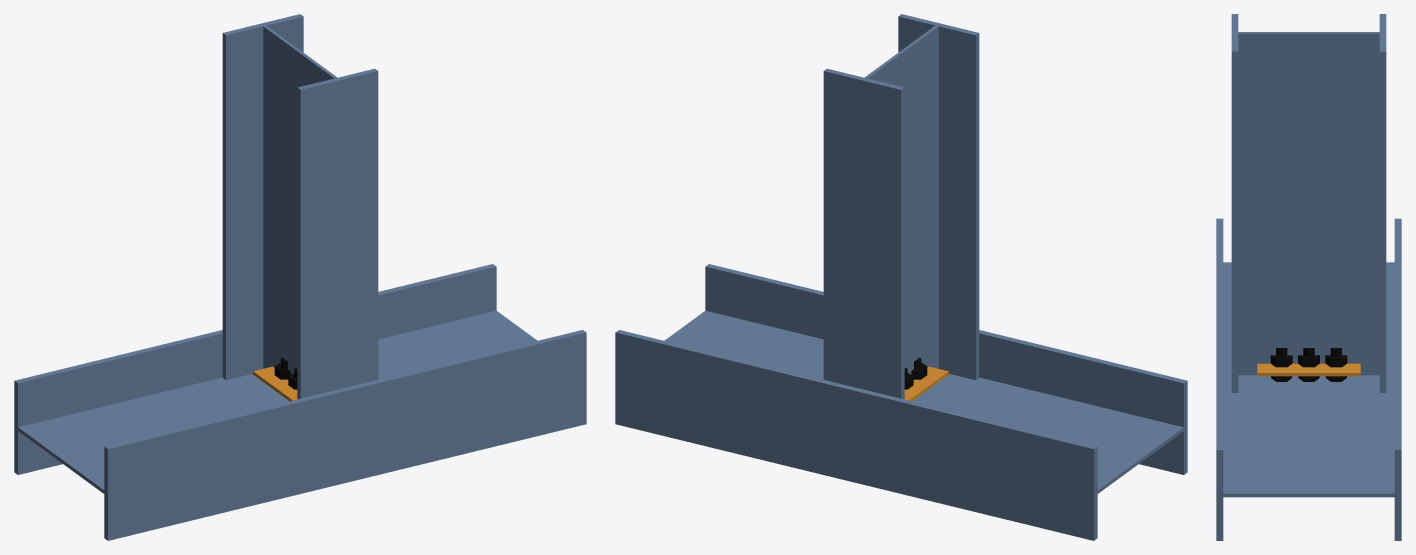
Rendered from detail_B7_beam_to_beam_connection.obj.
3 renders of one model, left to right at view 1: azimuth 30°, elevation 25°; view 2: azimuth 150°, elevation 25°; view 3: azimuth 270°, elevation 25°, orthographic.
Parts seen in each view (by area): view 1: B7_primary_beam_top_flange, B7_secondary_beam_top_flange, B7_primary_beam_bottom_flange, B7_primary_beam_web, B7_secondary_beam_bottom_flange, B7_secondary_beam_web, B7_PL6_fin_plate_80x170; view 2: B7_primary_beam_bottom_flange, B7_secondary_beam_bottom_flange, B7_primary_beam_top_flange, B7_primary_beam_web, B7_secondary_beam_top_flange, B7_secondary_beam_web, B7_PL6_fin_plate_80x170; view 3: B7_secondary_beam_web, B7_primary_beam_web, B7_secondary_beam_top_flange, B7_secondary_beam_bottom_flange, B7_primary_beam_top_flange, B7_primary_beam_bottom_flange, B7_PL6_fin_plate_80x170, bolt_M20_B7_1, bolt_M20_B7_3, bolt_M20_B7_2.
Boxes of the visible parts, box(x1,y1,x2,y2) form: B7_primary_beam_top_flange: box(104, 330, 586, 540); B7_secondary_beam_top_flange: box(297, 68, 378, 399); B7_primary_beam_bottom_flange: box(14, 264, 496, 474); B7_primary_beam_web: box(18, 310, 537, 493); B7_secondary_beam_bottom_flange: box(222, 14, 303, 380); B7_secondary_beam_web: box(263, 25, 336, 374); B7_PL6_fin_plate_80x170: box(253, 366, 297, 401); B7_primary_beam_bottom_flange: box(615, 330, 1097, 540); B7_secondary_beam_bottom_flange: box(823, 68, 904, 399); B7_primary_beam_top_flange: box(705, 264, 1187, 474); B7_primary_beam_web: box(664, 310, 1183, 493); B7_secondary_beam_top_flange: box(898, 14, 979, 380); B7_secondary_beam_web: box(865, 25, 938, 374); B7_PL6_fin_plate_80x170: box(904, 366, 948, 401); B7_secondary_beam_web: box(1238, 32, 1379, 375); B7_primary_beam_web: box(1223, 262, 1394, 497); B7_secondary_beam_top_flange: box(1231, 14, 1238, 392); B7_secondary_beam_bottom_flange: box(1379, 14, 1386, 392); B7_primary_beam_top_flange: box(1216, 218, 1223, 540); B7_primary_beam_bottom_flange: box(1394, 218, 1401, 540); B7_PL6_fin_plate_80x170: box(1257, 363, 1360, 376); bolt_M20_B7_1: box(1325, 348, 1347, 381); bolt_M20_B7_3: box(1270, 348, 1292, 381); bolt_M20_B7_2: box(1298, 348, 1319, 381).
Bounding box in the file's own units: 900 × 712 × 305.
